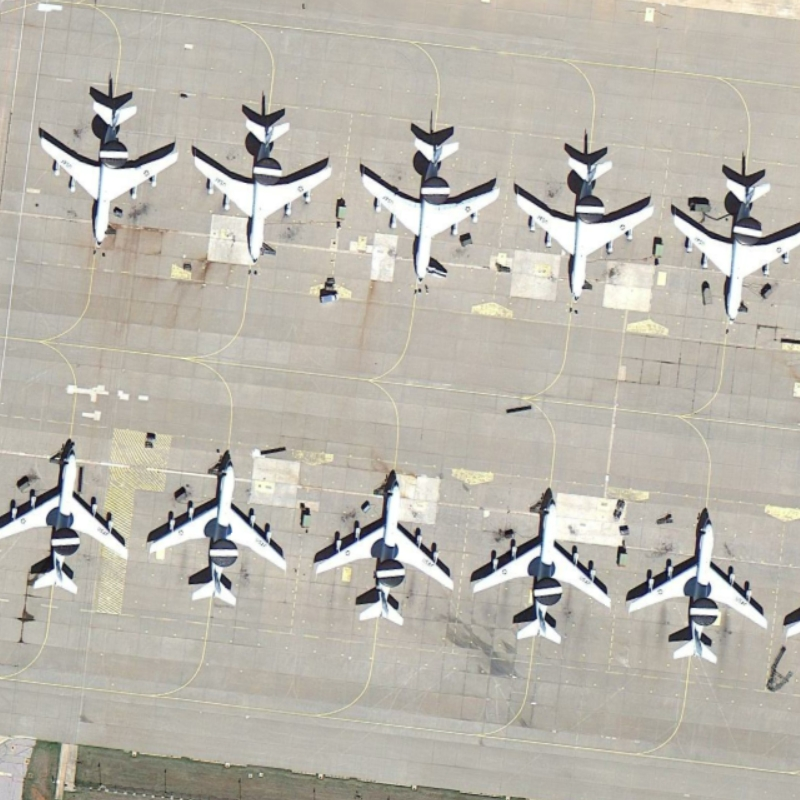A7: (31, 81, 184, 258), (308, 466, 466, 636), (621, 502, 776, 666), (144, 448, 296, 614), (510, 138, 661, 305), (189, 98, 336, 267), (462, 484, 615, 646), (357, 122, 504, 288), (669, 168, 800, 323), (2, 442, 132, 598)
